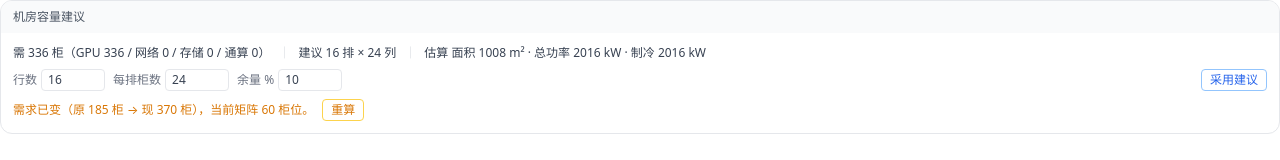
Test: B1-10 规划阶段容量建议卡（FR-A08） › T-B1-23 清单翻倍 → 只提示需求已变，矩阵结构逐字段不变
Expected: the text "需 168 柜" is shown, [13,44,706,61]
Expected: the text "需求已变（原 185 柜 → 现 370 柜），当前矩阵 60 柜位。" is shown, [13,102,314,118]
Note: 重算只重置基线，不动矩阵
Click the button "重算" at (343, 110), box [322,99,364,121]
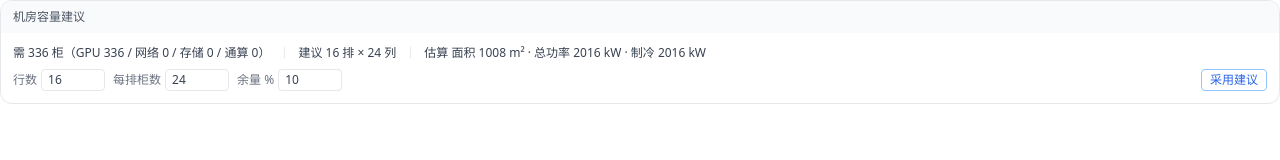
Expected: the text "需求已变" is gone
